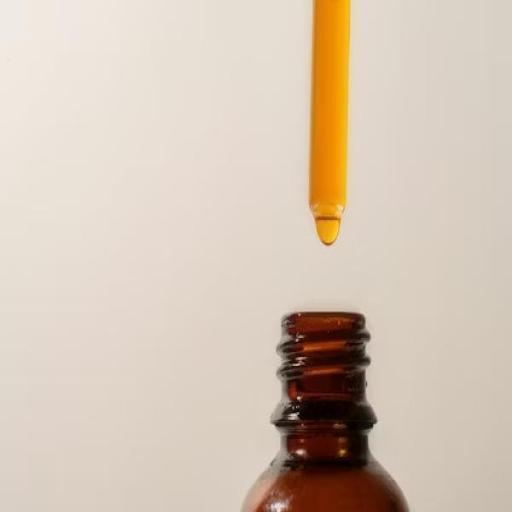bottle: (234, 301, 414, 512)
